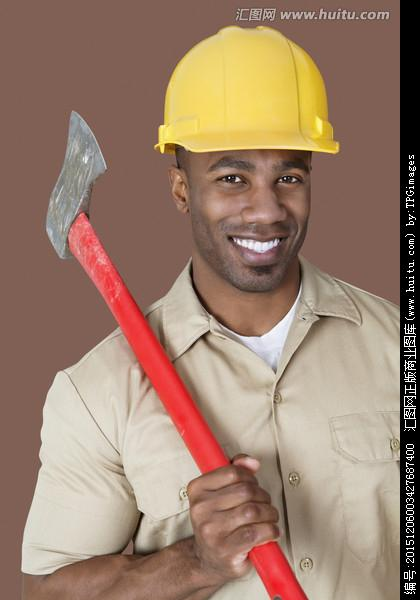helmet: (154, 24, 344, 157)
